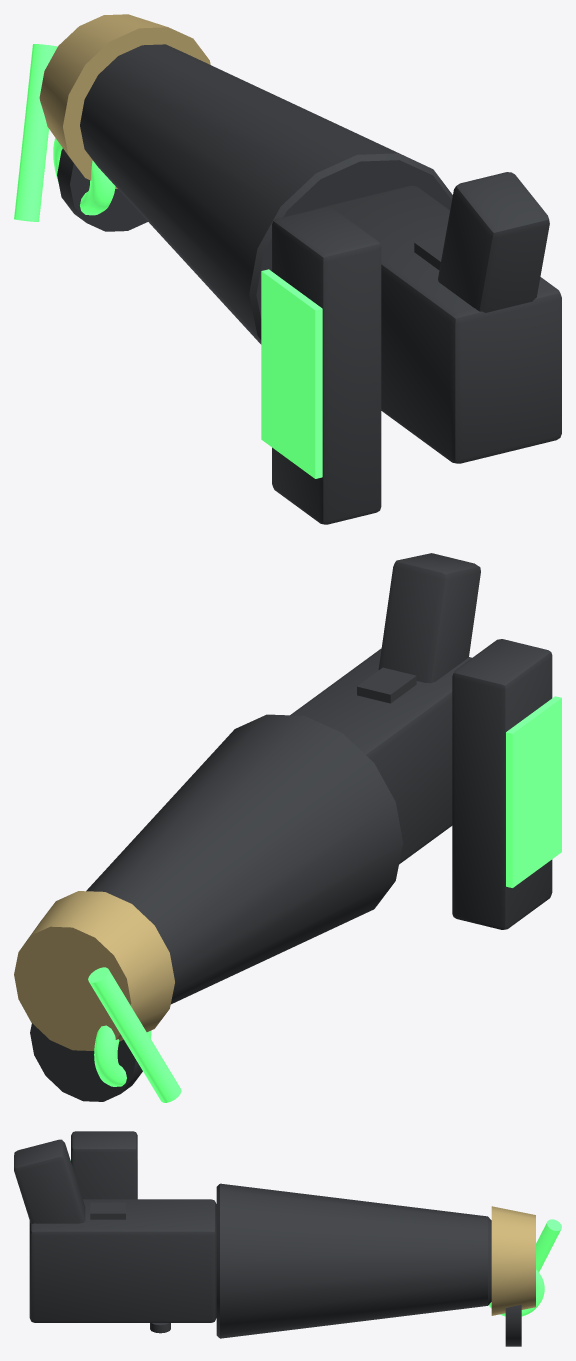
The model's file is green_candles.glb.
The picture shows the model from 3 angles, top to bottom: view 1: azimuth 30°, elevation 25°; view 2: azimuth 150°, elevation 25°; view 3: azimuth 270°, elevation 25°; orthographic projection. The views are drawn at different scales.
Parts seen in each view (by area): view 1: GreenCandlesBody; view 2: GreenCandlesBody; view 3: GreenCandlesBody.
Boxes of the visible parts, x1,y1,x2,y2 form: GreenCandlesBody: (14,14,561,524); GreenCandlesBody: (14,553,561,1102); GreenCandlesBody: (14,1131,561,1346).
Bounding box in the file's own units: 0.2185 × 0.2474 × 0.6179.
